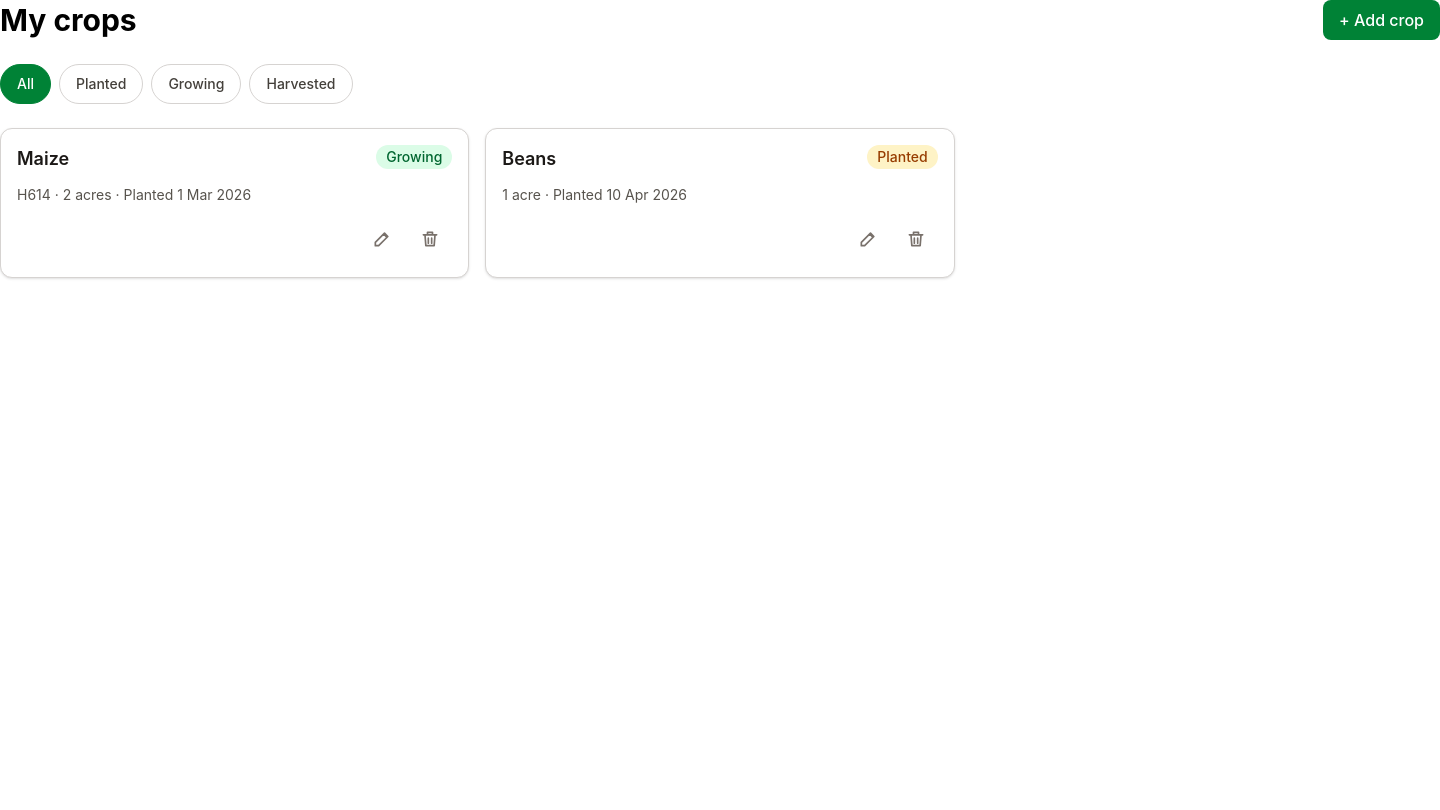
Test: Crops page › warns that deleting a crop also deletes its expenses
Click the button named "Delete Maize": (430, 239) [408,217,452,261]
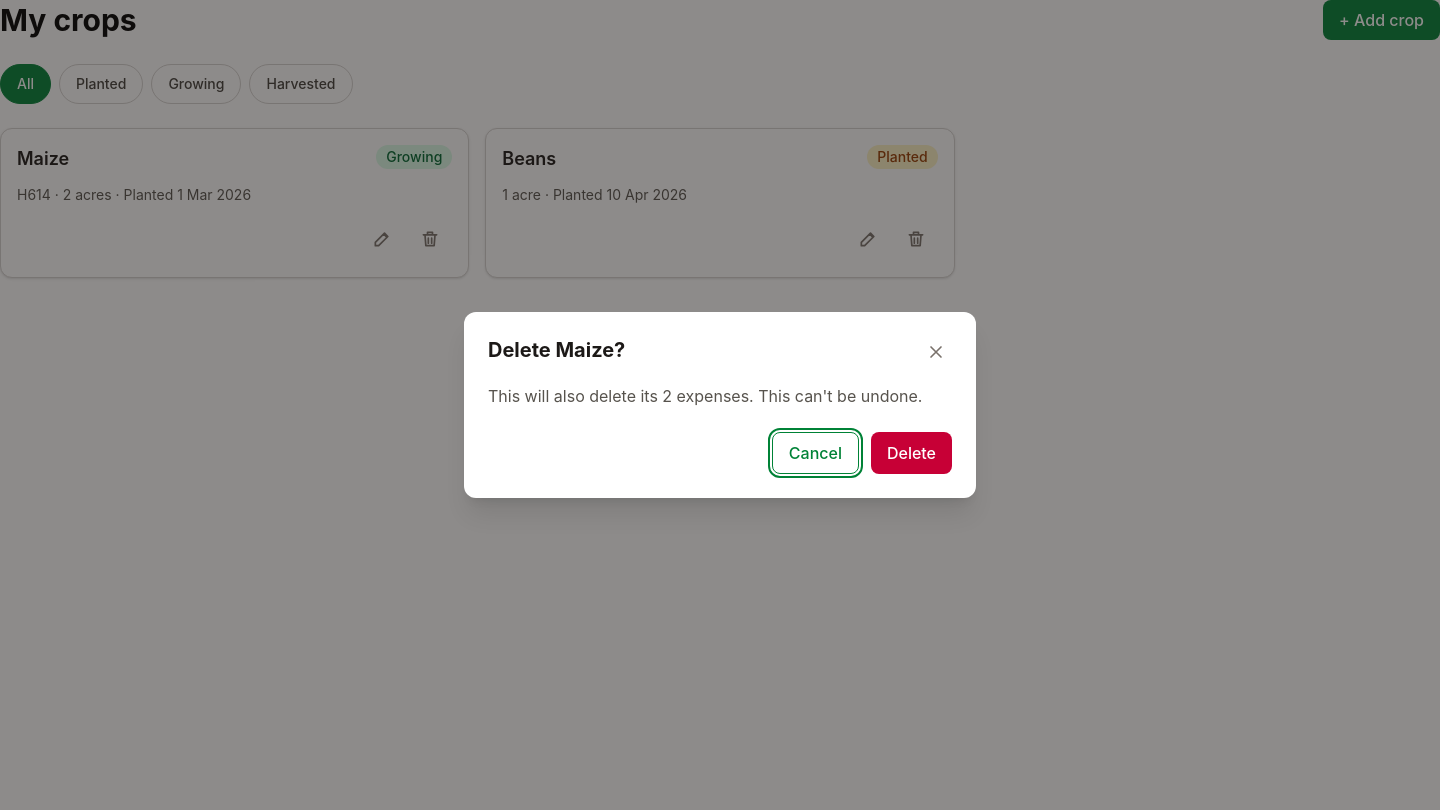
Result: the dialog shows "This will also delete its 2 expenses." at [488,386,922,406]
